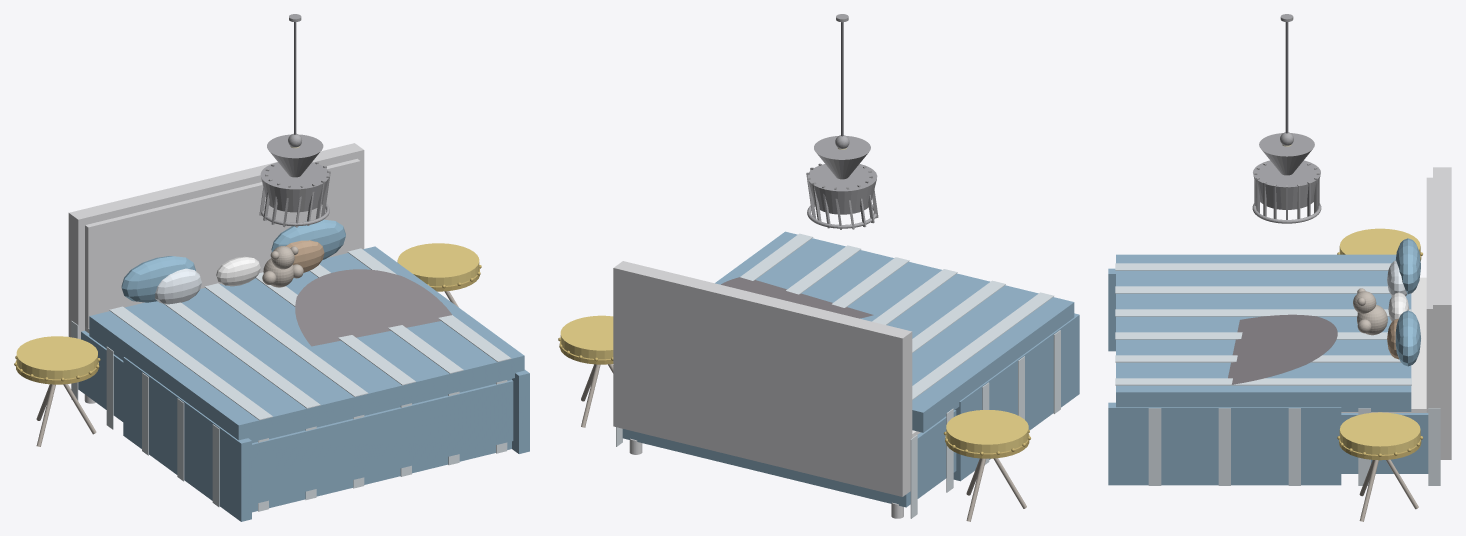
3 views of the same model, side by side, from view 1: azimuth 30°, elevation 25°; view 2: azimuth 150°, elevation 25°; view 3: azimuth 270°, elevation 25° (orthographic). The views are drawn at different scales.
Parts seen in each view (by area): view 1: bed_blanket, bed_mattress_side, bed_headboard_pad, drape_left, throw_blanket, bed_headboard, ns_left_top, ns_right_top, lamp_cone_dn, blanket_stripe_x-0.85, blanket_stripe_x-0.15, blanket_stripe_x-0.5 (+14 smaller); view 2: bed_headboard, bed_blanket, drape_left, bed_mattress_side, ns_left_top, lamp_cone_dn, ns_right_top, blanket_stripe_x-0.85, throw_blanket, lamp_cone_up, blanket_stripe_x-0.5, blanket_stripe_x-0.15 (+5 smaller); view 3: bed_blanket, drape_right, throw_blanket, bed_headboard, ns_right_top, blanket_stripe_x0.9, lamp_cone_dn, blanket_stripe_x-0.85, blanket_stripe_x-0.5, blanket_stripe_x-0.15, bed_mattress_side, bed_mattress (+17 smaller).
Boxes of the visible parts, x1,y1,x2,y2 form: bed_blanket: (89, 246, 524, 441); bed_mattress_side: (78, 330, 513, 504); bed_headboard_pad: (85, 158, 360, 332); drape_left: (123, 357, 251, 521); throw_blanket: (295, 269, 451, 346); bed_headboard: (68, 143, 364, 339); ns_left_top: (16, 336, 97, 379); ns_right_top: (397, 243, 479, 286); lamp_cone_dn: (260, 162, 329, 212); blanket_stripe_x-0.85: (109, 306, 272, 420); blanket_stripe_x-0.15: (204, 283, 368, 396); blanket_stripe_x-0.5: (164, 302, 320, 408); bed_headboard: (613, 261, 912, 496); bed_blanket: (715, 231, 1074, 432); drape_left: (953, 313, 1079, 481); bed_mattress_side: (622, 410, 956, 507); ns_left_top: (946, 410, 1028, 453); lamp_cone_dn: (807, 164, 877, 214); ns_right_top: (560, 315, 613, 359); blanket_stripe_x-0.85: (912, 292, 1053, 399); throw_blanket: (721, 277, 873, 318); lamp_cone_up: (814, 136, 870, 179); blanket_stripe_x-0.5: (912, 280, 1005, 352); blanket_stripe_x-0.15: (872, 269, 957, 324); bed_blanket: (1116, 254, 1411, 411); drape_right: (1108, 402, 1341, 485); throw_blanket: (1228, 314, 1337, 384); bed_headboard: (1433, 167, 1451, 459); ns_right_top: (1339, 412, 1420, 454); blanket_stripe_x0.9: (1115, 378, 1411, 385); lamp_cone_dn: (1253, 160, 1320, 209); blanket_stripe_x-0.85: (1115, 263, 1391, 270); blanket_stripe_x-0.5: (1115, 286, 1411, 293); blanket_stripe_x-0.15: (1115, 309, 1411, 316); bed_mattress_side: (1341, 413, 1428, 473); bed_mattress: (1341, 277, 1428, 412).
Size of the model in its own units: 3.35 by 2.86 by 2.21.
